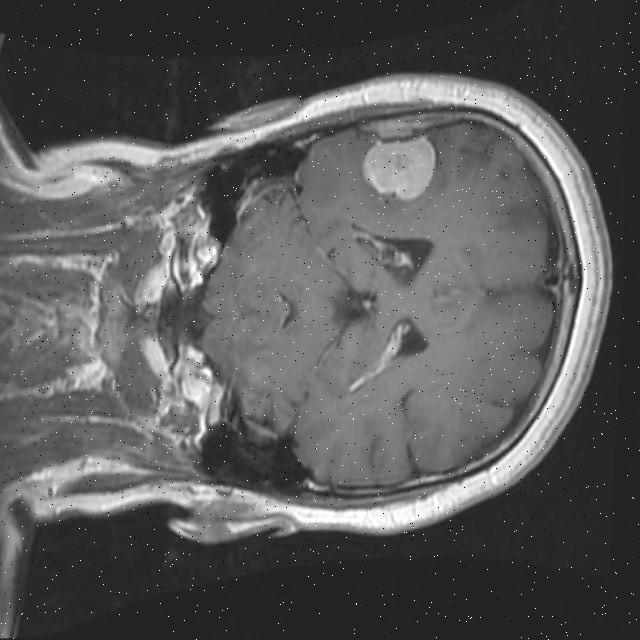Meningioma: (356, 120, 442, 209)
